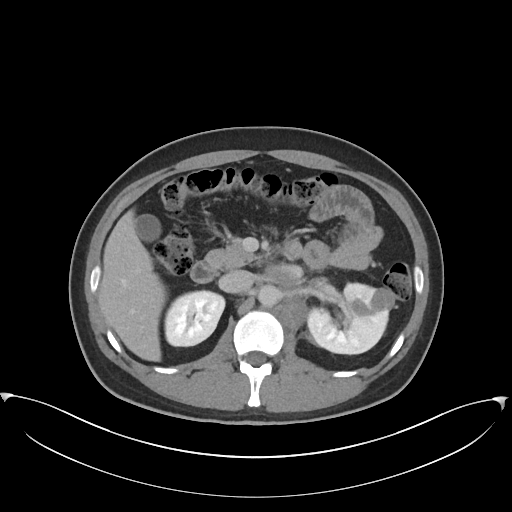Lesion: (369, 284, 398, 317)
